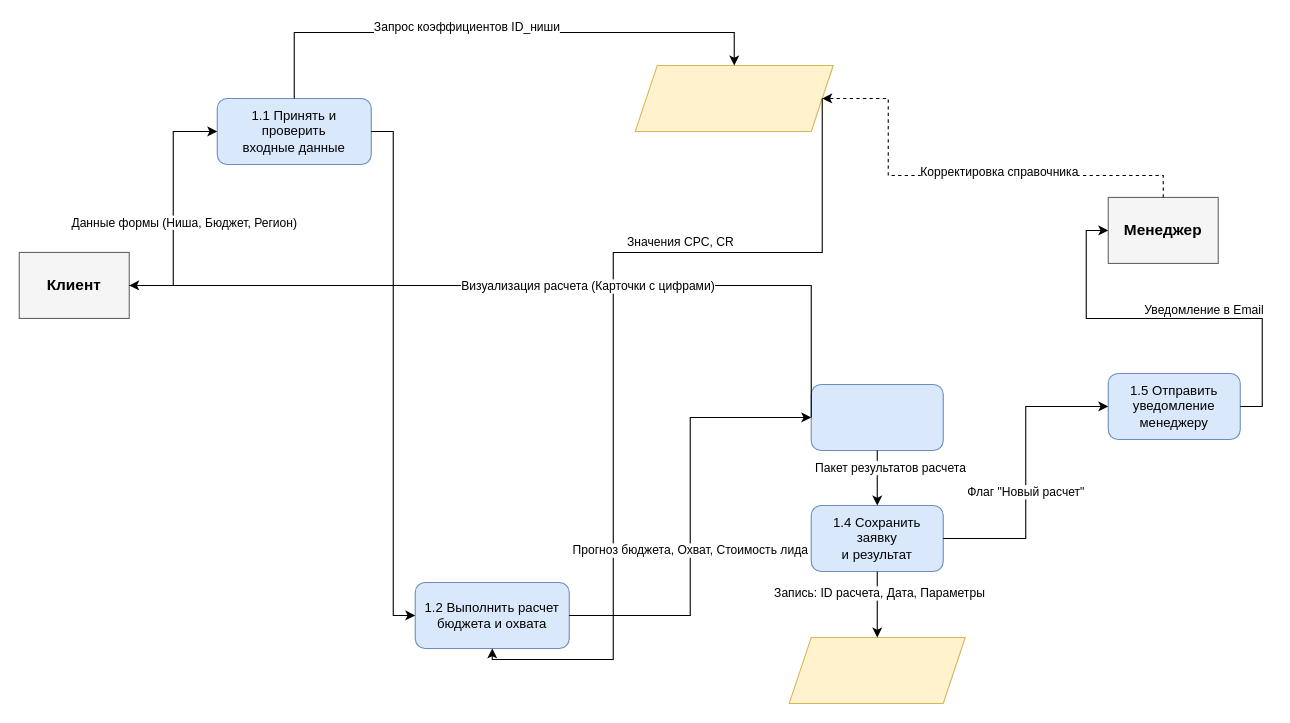
The diagram is 1290 pixels wide and 723 high, and some of its shapes have lost their labels. Each missing label, with the centre of its shape:
1.3 Сформировать черновик КП: the point at 876,416
D1 Справочник ниш и коэффициентов: the point at 733,97
D2 История расчетов: the point at 876,669
